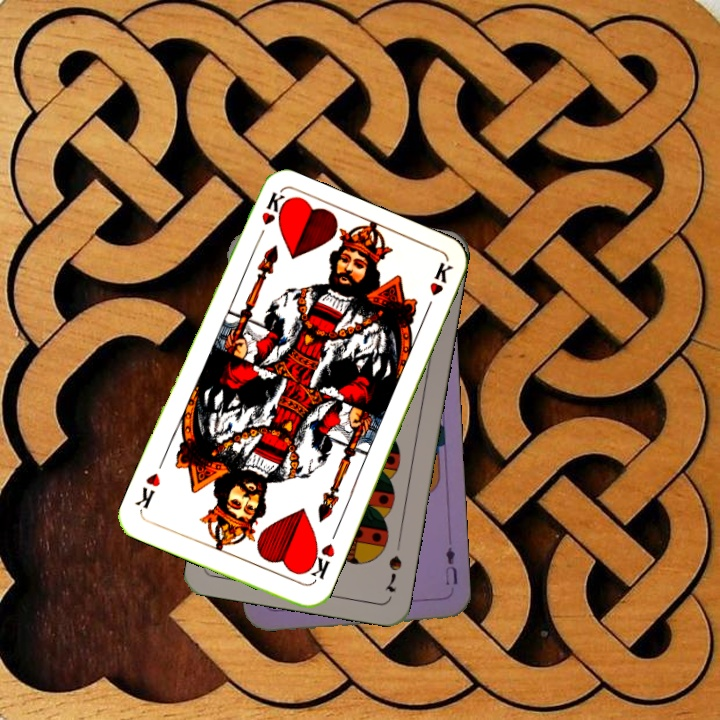EU: (441, 543, 460, 588)
HK: (251, 189, 286, 247), (302, 539, 338, 586)
S7: (381, 551, 405, 595)
